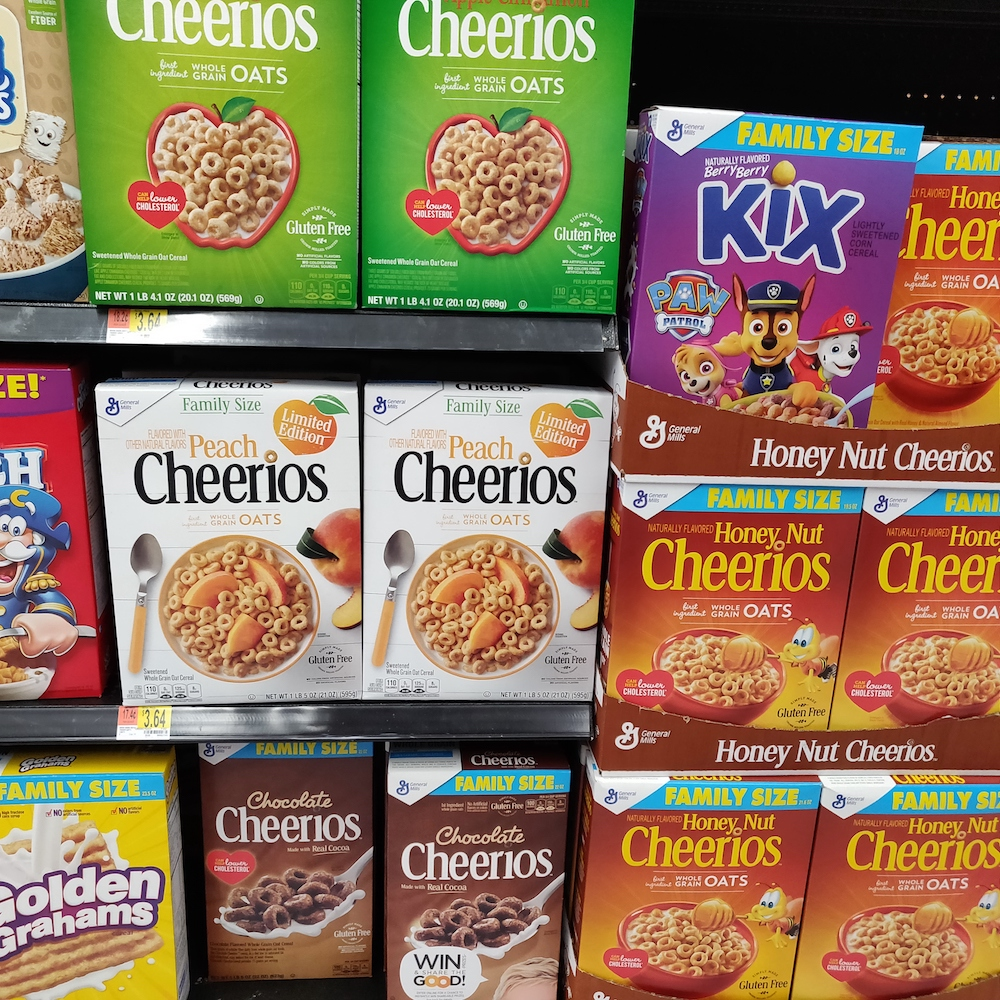Kix Berry -568919964: (651, 103, 895, 433)
